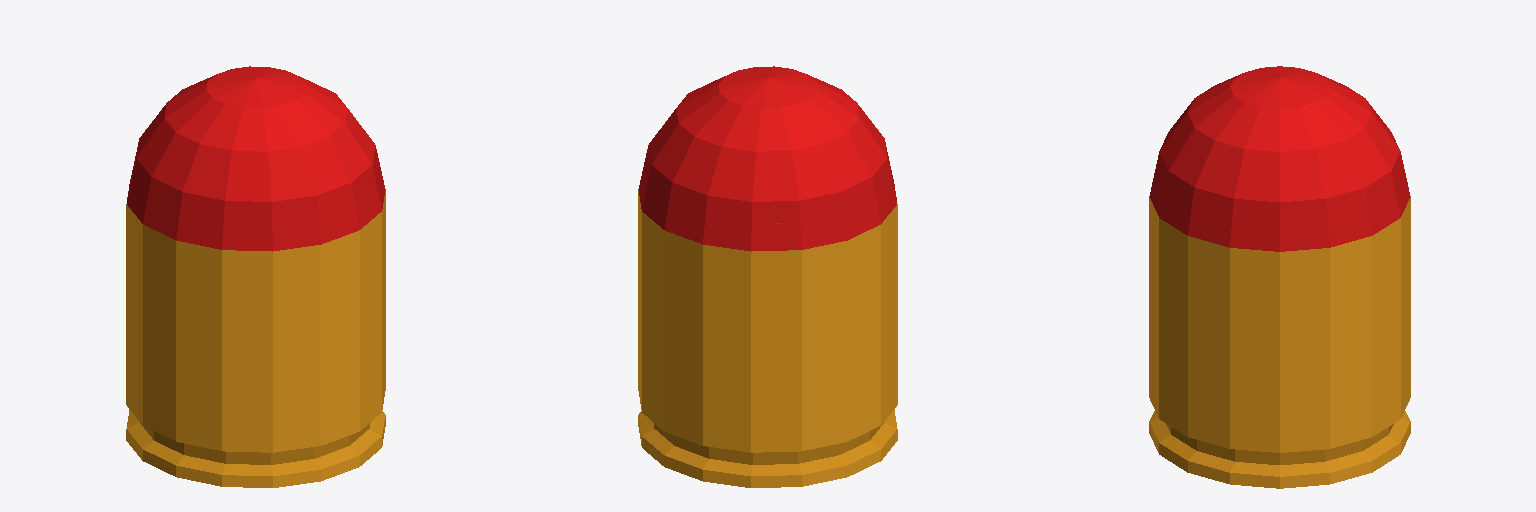
The picture shows the model from 3 angles: view 1: azimuth 30°, elevation 25°; view 2: azimuth 150°, elevation 25°; view 3: azimuth 270°, elevation 25°; orthographic projection.
Visible parts, largest first — view 1: Sphere; view 2: Sphere; view 3: Sphere.
Boxes of the visible parts, <box> form: Sphere: <box>126,66,385,487</box>; Sphere: <box>638,66,897,487</box>; Sphere: <box>1149,66,1410,488</box>.
Bounding box in the file's own units: 2 × 3 × 2.
1 materials, 1 textured.